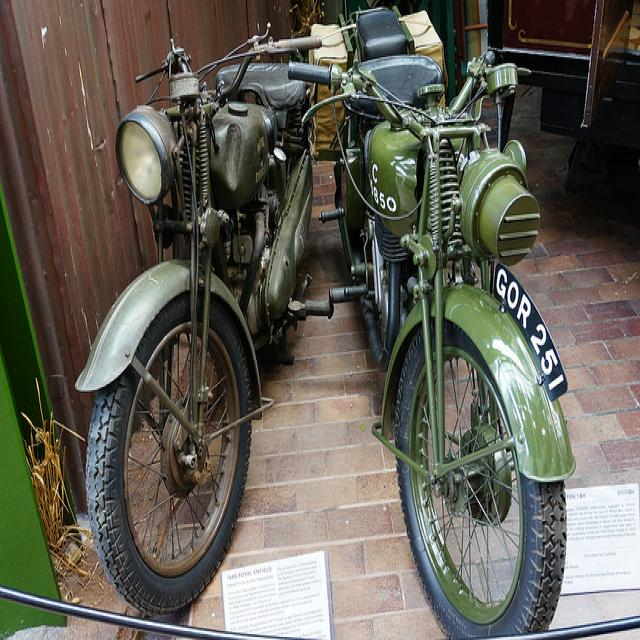motor: (289, 2, 572, 633), (81, 47, 334, 612)
